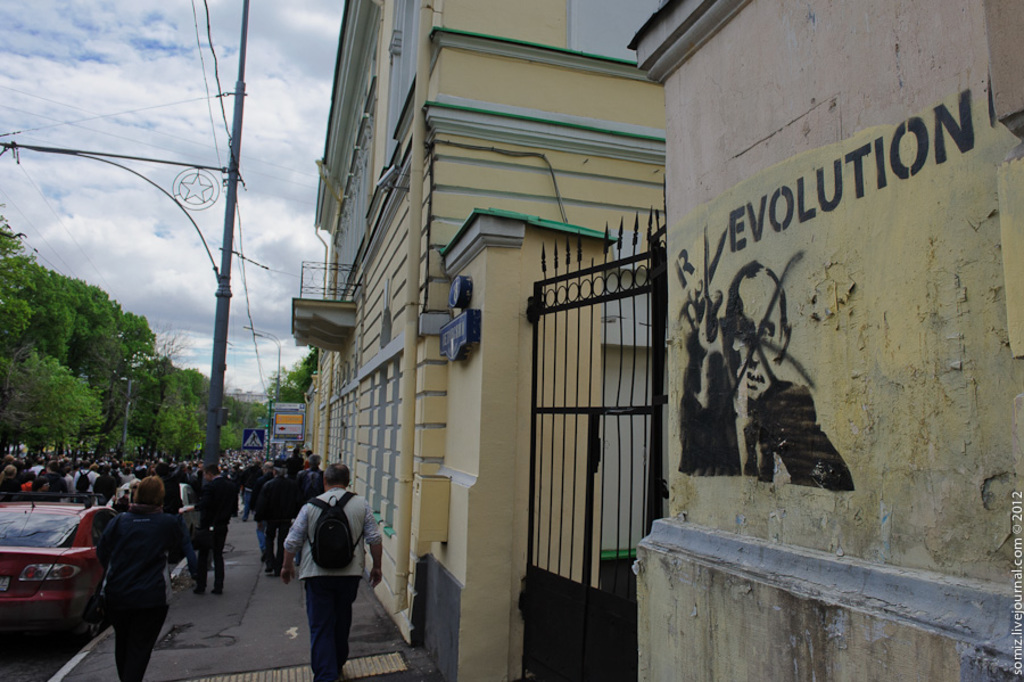Car: (0, 505, 109, 656)
